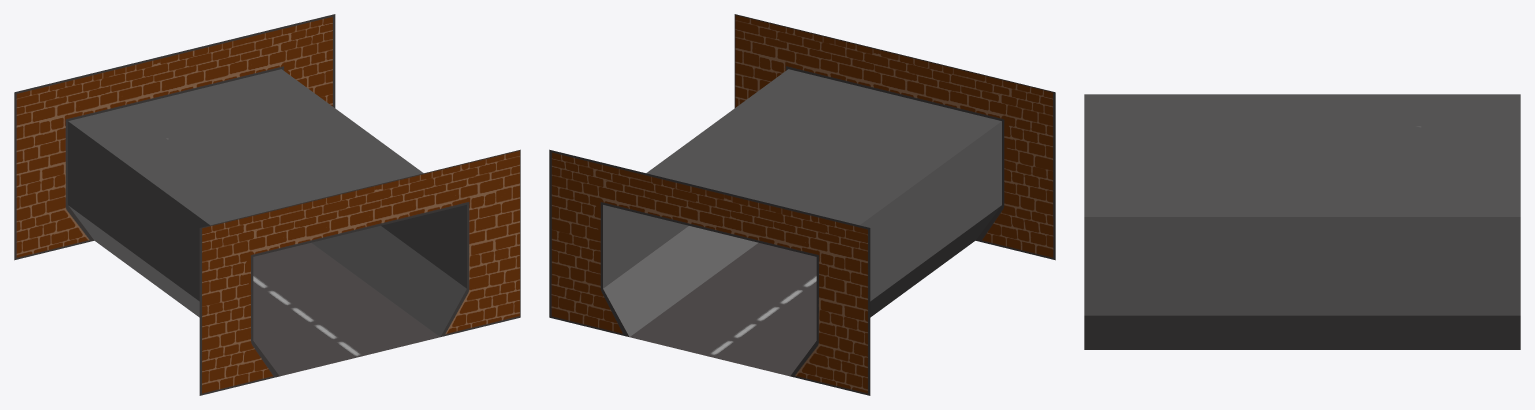
File: rechttunnelmet.fbx
3 renders of one model, left to right at view 1: azimuth 30°, elevation 25°; view 2: azimuth 150°, elevation 25°; view 3: azimuth 270°, elevation 25°, orthographic. The views are drawn at different scales.
Parts seen in each view (by area): view 1: rechttunnelmet; view 2: rechttunnelmet; view 3: rechttunnelmet.
Boxes of the visible parts, <box> form: rechttunnelmet: <box>14,14,520,395</box>; rechttunnelmet: <box>549,14,1055,395</box>; rechttunnelmet: <box>1084,94,1520,349</box>.
Bounding box in the file's own units: 22.89 × 11.45 × 22.89.
